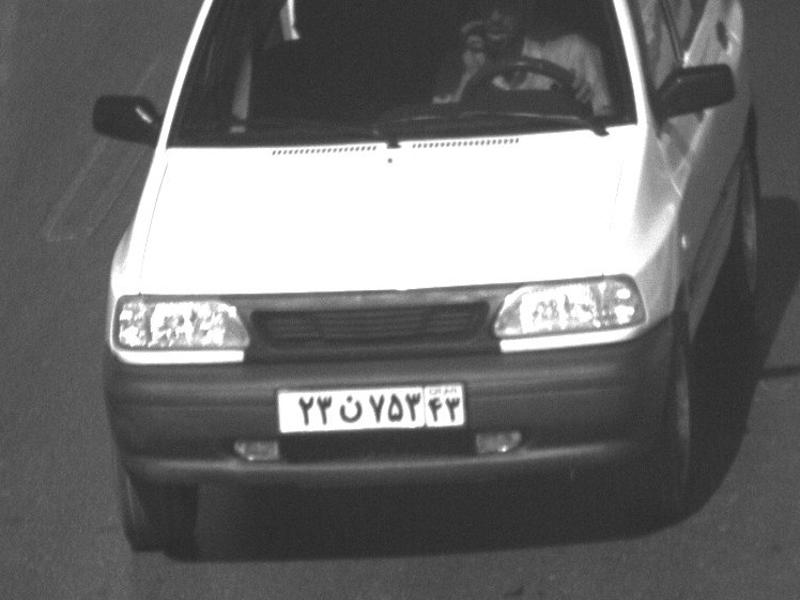Plate: (278, 388, 467, 423)
